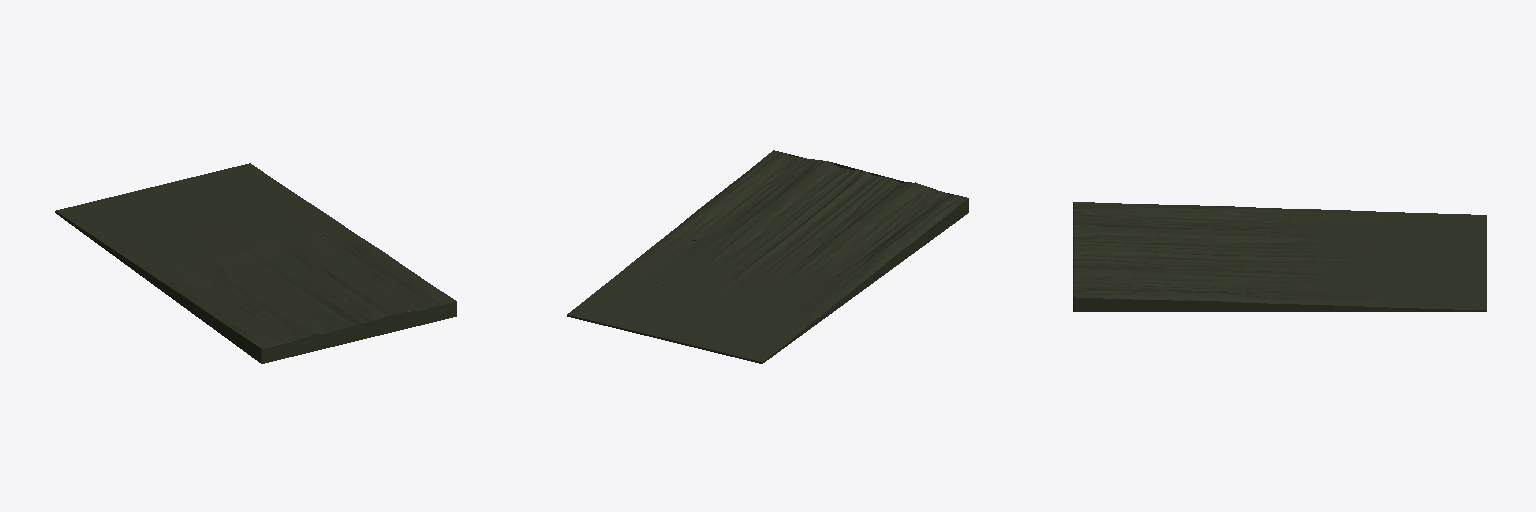
File: Shake SOLID field tile-12 inch.obj
3 renders of one model, left to right at view 1: azimuth 30°, elevation 25°; view 2: azimuth 150°, elevation 25°; view 3: azimuth 270°, elevation 25°, orthographic.
Visible parts, largest first — view 1: SHAKE_12_low_poly; view 2: SHAKE_12_low_poly; view 3: SHAKE_12_low_poly.
Part boxes in pixels (x1,y1,x2,y2): SHAKE_12_low_poly: (55, 163, 456, 363); SHAKE_12_low_poly: (567, 150, 968, 363); SHAKE_12_low_poly: (1073, 202, 1486, 311).
Bounding box in the file's own units: 30.48 × 2.66 × 55.8.